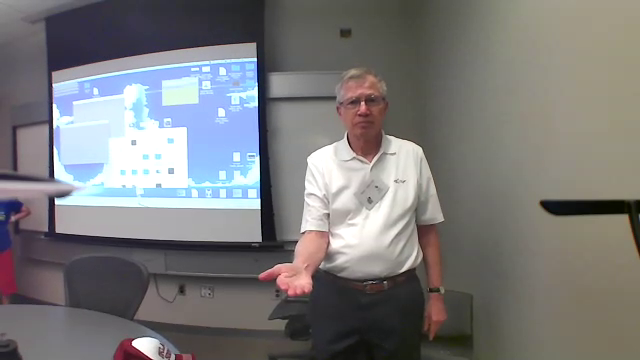land: (251, 259, 320, 301)
